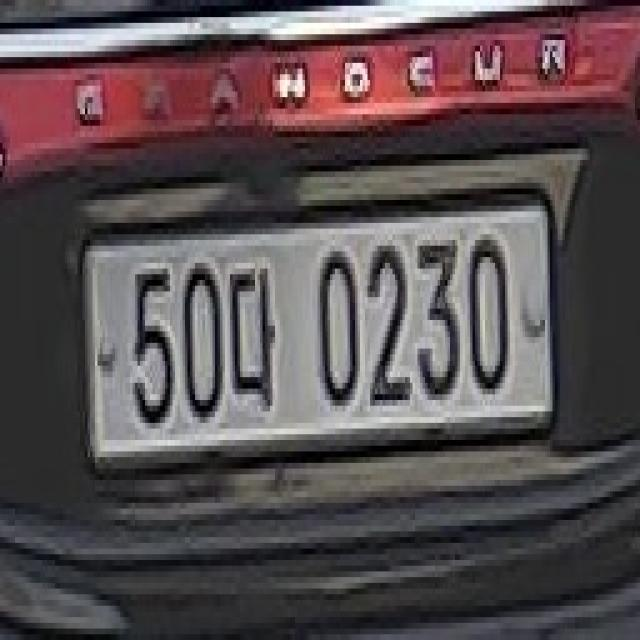0: (468, 223, 516, 402), (317, 242, 360, 416), (182, 255, 225, 428)
2: (366, 234, 412, 416)
3: (415, 230, 463, 406)
5: (132, 265, 176, 438)
da: (228, 254, 280, 423)
license_plate: (80, 184, 559, 479)
